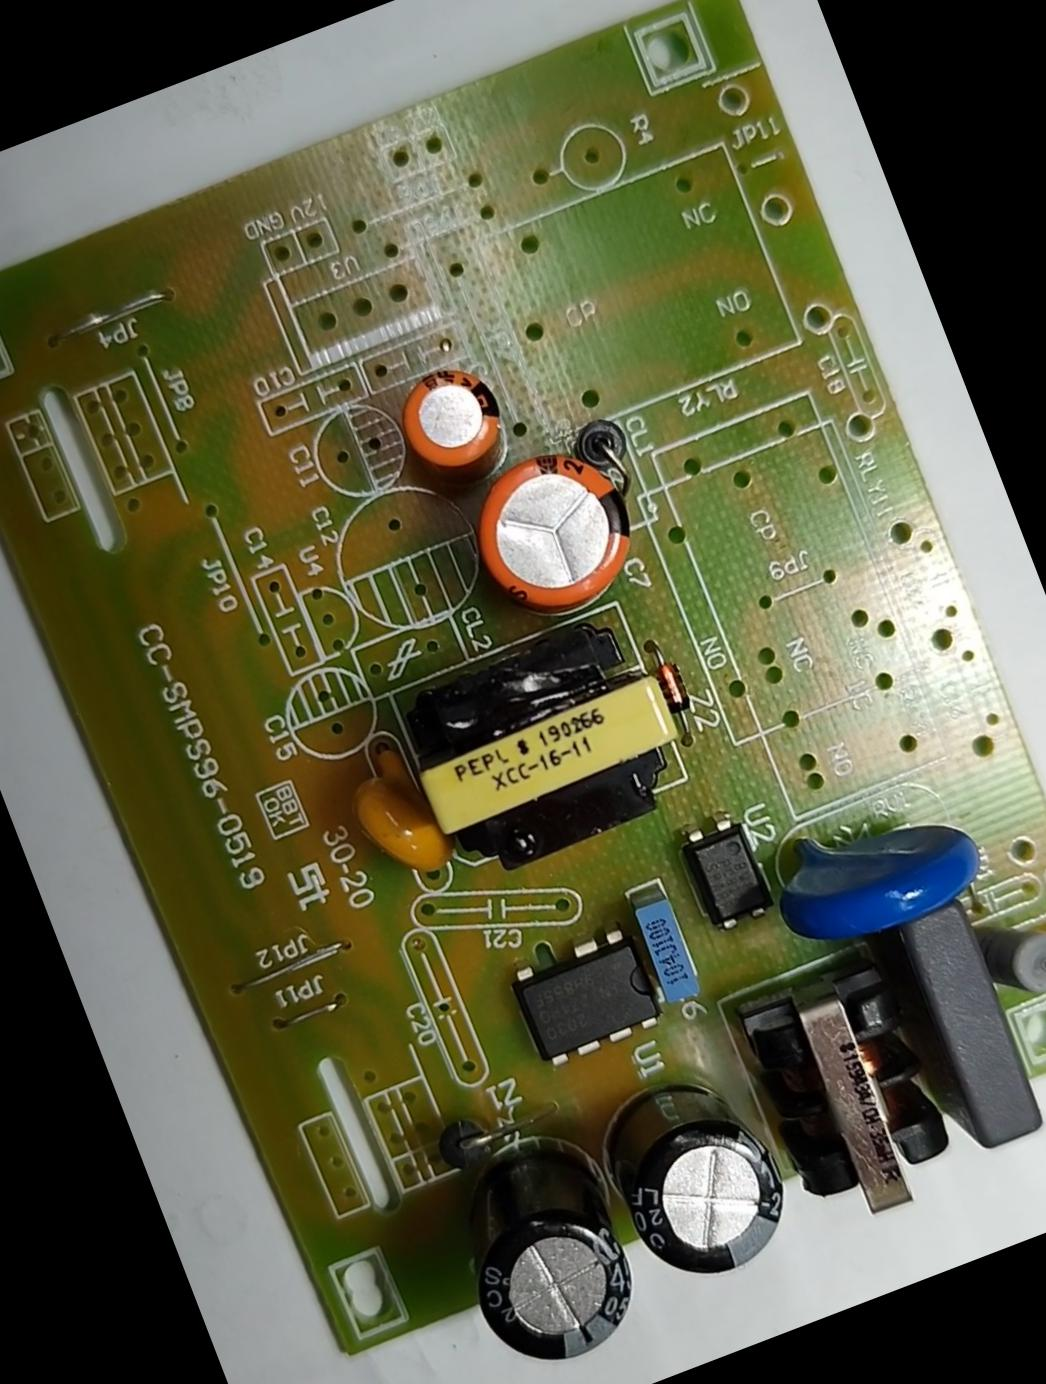Cap1: (457, 429, 652, 629)
Cap2: (387, 350, 518, 485)
Cap3: (589, 1056, 808, 1302)
Cap4: (425, 1114, 661, 1383)
MOSFET: (503, 919, 669, 1070)
Mov: (754, 769, 998, 963)
Resistor: (966, 897, 1045, 1014)
Transformer: (383, 594, 712, 893), (726, 951, 972, 1250)
